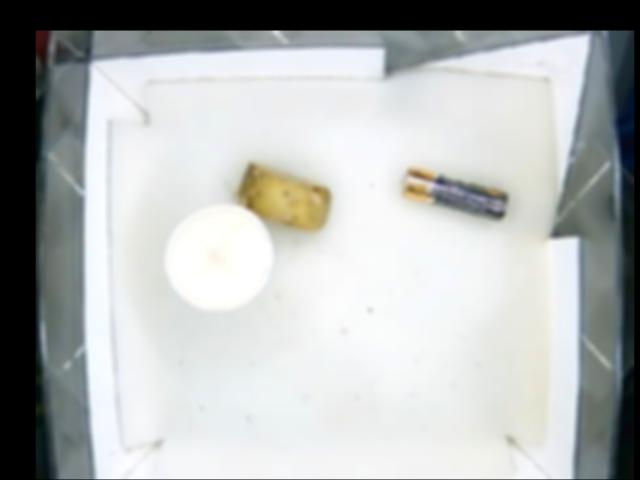Battery: (398, 165, 510, 219)
Cup: (161, 202, 275, 312)
Potato: (232, 165, 333, 231)
